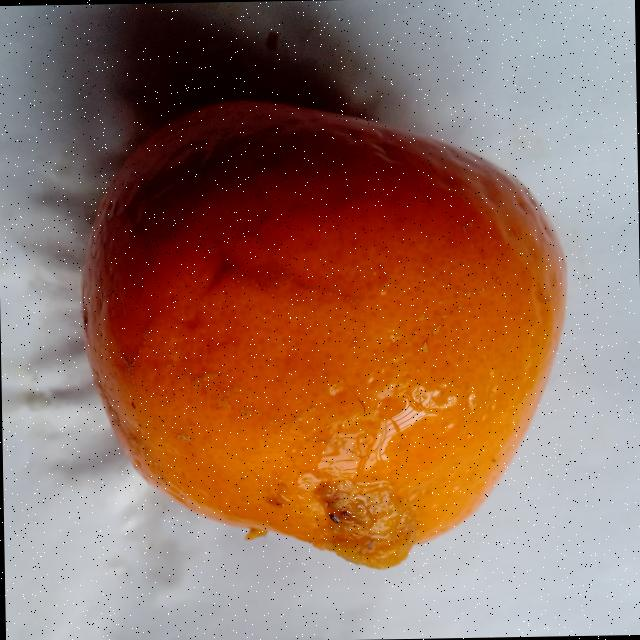Rotten: (78, 92, 574, 574)
